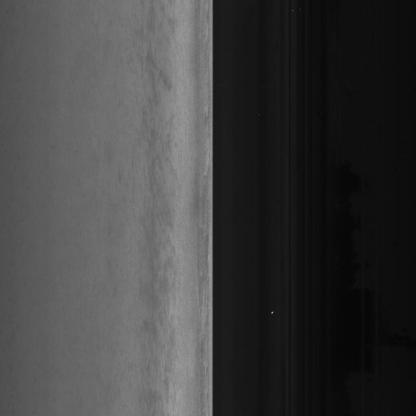silk_spot: (141, 150, 173, 274)
